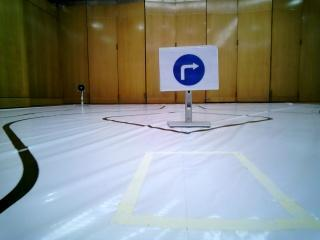right: (159, 51, 215, 91)
